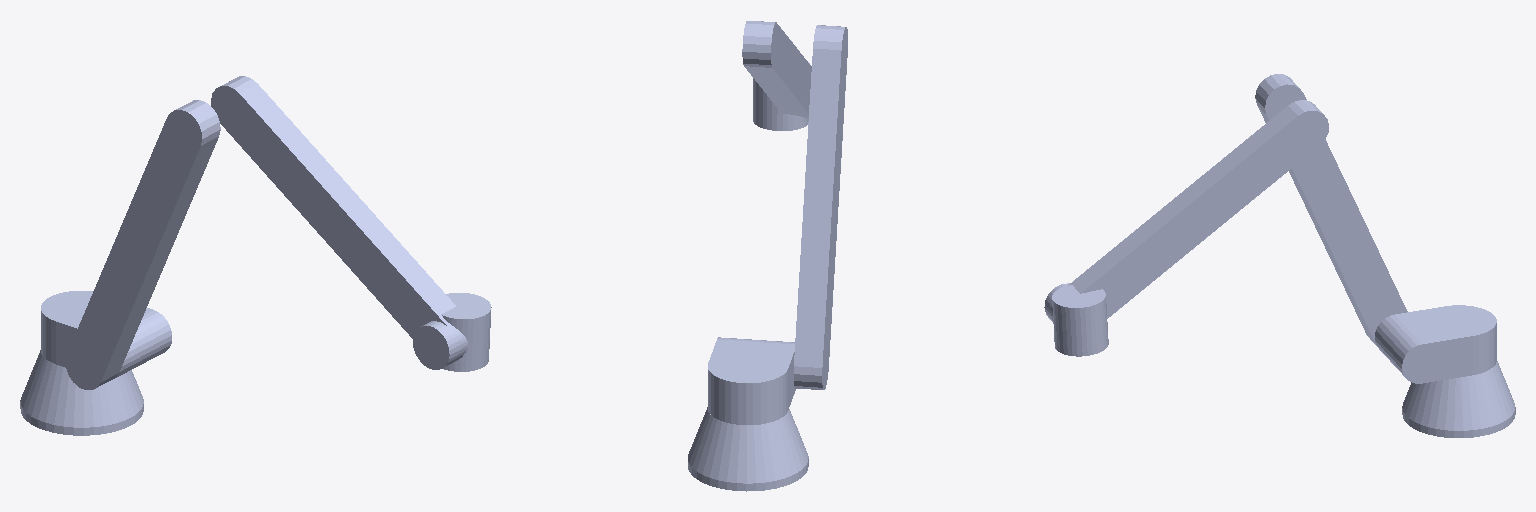
robot.urdf — sdra_description:
<?xml version="1.0" encoding="utf-8"?>
<!-- This URDF was automatically created by SolidWorks to URDF Exporter! Originally created by [author] ([email redacted]) 
     Commit Version: 1.6.0-4-g7f85cfe  Build Version: 1.6.7995.38578
     For more information, please see http://wiki.ros.org/sw_urdf_exporter -->
<robot
  name="sdra_description">
  <link
    name="base_link">
    <inertial>
      <origin
        xyz="0.058756 -0.084662 0.1005"
        rpy="0 0 0" />
      <mass
        value="0.71125" />
      <inertia
        ixx="0.0032491"
        ixy="-2.2578E-22"
        ixz="9.8868E-22"
        iyy="0.0032491"
        iyz="-6.6907E-19"
        izz="0.0048171" />
    </inertial>
    <visual>
      <origin
        xyz="0 0 0"
        rpy="0 0 0" />
      <geometry>
        <mesh
          filename="package://sdra_description/meshes/base_link.STL" />
      </geometry>
      <material
        name="">
        <color
          rgba="0.79216 0.81961 0.93333 1" />
      </material>
    </visual>
    <collision>
      <origin
        xyz="0 0 0"
        rpy="0 0 0" />
      <geometry>
        <mesh
          filename="package://sdra_description/meshes/base_link.STL" />
      </geometry>
    </collision>
  </link>
  <link
    name="link1">
    <inertial>
      <origin
        xyz="2.08166817117217E-17 0.04 -0.0377780415986943"
        rpy="0 0 0" />
      <mass
        value="2.08761053730566" />
      <inertia
        ixx="0.00742870445718791"
        ixy="-6.84015806136404E-20"
        ixz="1.95156391047391E-18"
        iyy="0.00952055836647544"
        iyz="1.02543660202385E-19"
        izz="0.00422480958182635" />
    </inertial>
    <visual>
      <origin
        xyz="0 0 0"
        rpy="0 0 0" />
      <geometry>
        <mesh
          filename="package://sdra_description/meshes/link1.STL" />
      </geometry>
      <material
        name="">
        <color
          rgba="0.792156862745098 0.819607843137255 0.933333333333333 1" />
      </material>
    </visual>
    <collision>
      <origin
        xyz="0 0 0"
        rpy="0 0 0" />
      <geometry>
        <mesh
          filename="package://sdra_description/meshes/link1.STL" />
      </geometry>
    </collision>
  </link>
  <joint
    name="joint1"
    type="revolute">
    <origin
      xyz="0.0587564520357434 -0.0846616099911215 0.151979361094108"
      rpy="1.5707963267949 0 -2.77072298333055" />
    <parent
      link="base_link" />
    <child
      link="link1" />
    <axis
      xyz="0 1 0" />
    <limit
      lower="-3.14"
      upper="3.14"
      effort="100"
      velocity="6.28" />
  </joint>
  <link
    name="link2">
    <inertial>
      <origin
        xyz="-0.095000000000001 -2.77555756156289E-16 0.275"
        rpy="0 0 0" />
      <mass
        value="2.45132741228718" />
      <inertia
        ixx="0.0781860308173814"
        ixy="0"
        ixz="4.32325616278595E-18"
        iyy="0.0774228597300263"
        iyz="7.23162849047831E-17"
        izz="0.00178455750914138" />
    </inertial>
    <visual>
      <origin
        xyz="0 0 0"
        rpy="0 0 0" />
      <geometry>
        <mesh
          filename="package://sdra_description/meshes/link2.STL" />
      </geometry>
      <material
        name="">
        <color
          rgba="0.792156862745098 0.819607843137255 0.933333333333333 1" />
      </material>
    </visual>
    <collision>
      <origin
        xyz="0 0 0"
        rpy="0 0 0" />
      <geometry>
        <mesh
          filename="package://sdra_description/meshes/link2.STL" />
      </geometry>
    </collision>
  </link>
  <joint
    name="joint2"
    type="revolute">
    <origin
      xyz="0 0.0400000000000031 -0.0999999999999985"
      rpy="1.97667516838365 0 3.14159265358979" />
    <parent
      link="link1" />
    <child
      link="link2" />
    <axis
      xyz="1 0 0" />
    <limit
      lower="-3.14"
      upper="3.14"
      effort="100"
      velocity="6.28" />
  </joint>
  <link
    name="link3">
    <inertial>
      <origin
        xyz="-0.0449999999999999 -2.22044604925031E-16 0.275"
        rpy="0 0 0" />
      <mass
        value="2.45132741228718" />
      <inertia
        ixx="0.0781860308173814"
        ixy="-4.33680868994202E-18"
        ixz="6.39679281766448E-18"
        iyy="0.0774228597300263"
        iyz="9.83371370444353E-17"
        izz="0.00178455750914137" />
    </inertial>
    <visual>
      <origin
        xyz="0 0 0"
        rpy="0 0 0" />
      <geometry>
        <mesh
          filename="package://sdra_description/meshes/link3.STL" />
      </geometry>
      <material
        name="">
        <color
          rgba="0.792156862745098 0.819607843137255 0.933333333333333 1" />
      </material>
    </visual>
    <collision>
      <origin
        xyz="0 0 0"
        rpy="0 0 0" />
      <geometry>
        <mesh
          filename="package://sdra_description/meshes/link3.STL" />
      </geometry>
    </collision>
  </link>
  <joint
    name="joint3"
    type="revolute">
    <origin
      xyz="0 0 0.55"
      rpy="1.75653072975658 0 0" />
    <parent
      link="link2" />
    <child
      link="link3" />
    <axis
      xyz="1 0 0" />
    <limit
      lower="-3.14"
      upper="3.14"
      effort="100"
      velocity="6.28" />
  </joint>
  <link
    name="link4">
    <inertial>
      <origin
        xyz="-0.048723 -1.4225E-08 2.0409E-08"
        rpy="0 0 0" />
      <mass
        value="0.95838" />
      <inertia
        ixx="0.00129"
        ixy="8.6782E-10"
        ixz="-2.1532E-09"
        iyy="0.0016328"
        iyz="-9.2513E-10"
        izz="0.0017839" />
    </inertial>
    <visual>
      <origin
        xyz="0 0 0"
        rpy="0 0 0" />
      <geometry>
        <mesh
          filename="package://sdra_description/meshes/link4.STL" />
      </geometry>
      <material
        name="">
        <color
          rgba="0.79216 0.81961 0.93333 1" />
      </material>
    </visual>
    <collision>
      <origin
        xyz="0 0 0"
        rpy="0 0 0" />
      <geometry>
        <mesh
          filename="package://sdra_description/meshes/link4.STL" />
      </geometry>
    </collision>
  </link>
  <joint
    name="joint4"
    type="revolute">
    <origin
      xyz="0 0 0.55"
      rpy="0.535953139821402 0 -3.14159265358979" />
    <parent
      link="link3" />
    <child
      link="link4" />
    <axis
      xyz="1 0 0" />
    <limit
      lower="-3.14"
      upper="3.14"
      effort="100"
      velocity="6.28" />
  </joint>
</robot>

--- Facts derived from the render (not from the file) ---
3 views of the same robot in one strip: view 1: azimuth 30°, elevation 25°; view 2: azimuth 150°, elevation 25°; view 3: azimuth 270°, elevation 25° (orthographic).
Model sdra_description with 5 links and 4 joints (4 revolute), rooted at base_link, posed all joints at 0.
Visible links, largest first — view 1: link3, link2, base_link, link4, link1; view 2: link2, base_link, link1, link3, link4; view 3: link3, link2, link1, base_link, link4.
Link boxes in pixels (<box>): link3: <box>211,76,464,353</box>; link2: <box>66,100,220,389</box>; base_link: <box>20,350,143,435</box>; link4: <box>413,293,491,371</box>; link1: <box>41,291,171,377</box>; link2: <box>794,25,847,389</box>; base_link: <box>688,407,808,491</box>; link1: <box>708,337,795,424</box>; link3: <box>742,21,811,117</box>; link4: <box>753,62,809,130</box>; link3: <box>1050,100,1328,318</box>; link2: <box>1255,74,1407,345</box>; link1: <box>1375,305,1496,383</box>; base_link: <box>1402,361,1515,437</box>; link4: <box>1044,283,1108,356</box>.
Size in the robot's own frame: 0.4915 by 0.8701 by 0.6951 metres.
Meshes: 5 distinct files referenced, 5 mesh visuals loaded (5 binary STL).